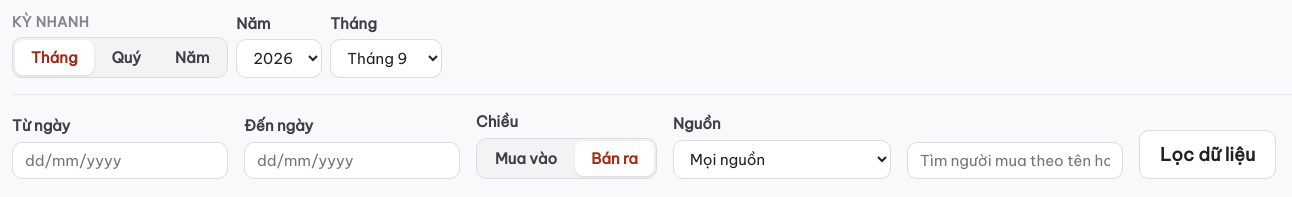
Scenario: B1 — ẩn ô MST theo chiều lọc (segmented, mặc định Mua vào) › Bán ra rồi bấm 'Mua vào' → quay lại chỉ MST người bán
Check: the dropdown labelled "người mua" is shown, box [907,142,1123,178]
Click the button "Mua vào": (526, 158) [479,140,573,176]
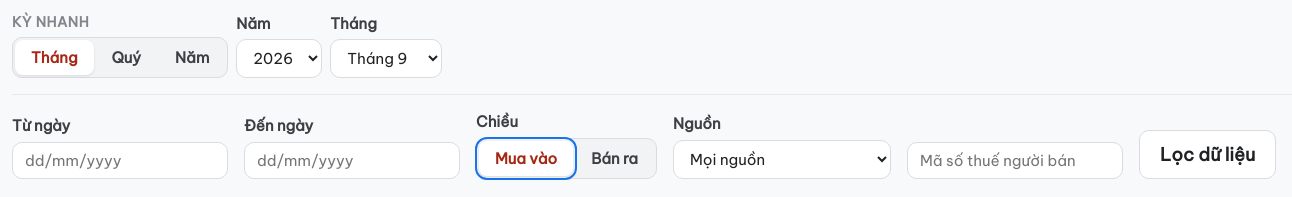
Check: the field labelled "Người mua" is not shown
Check: the field labelled "Mã số thuế người bán" is shown, box [907,142,1123,178]
